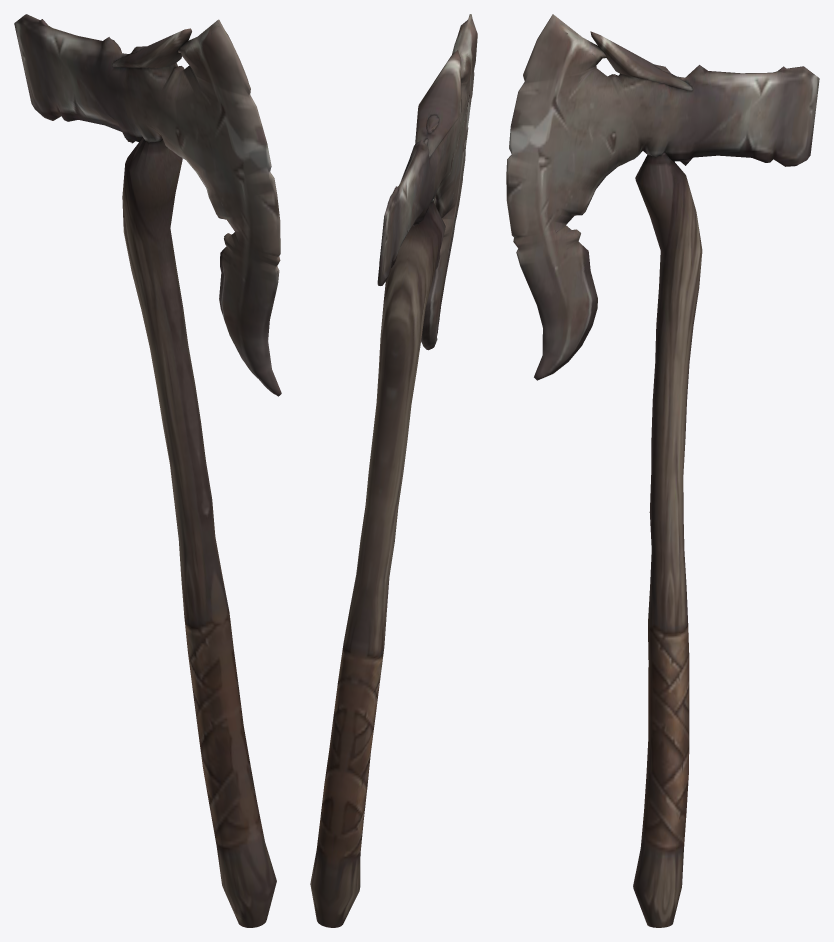
Rendered from axe.glb.
The picture shows the model from 3 angles, left to right: view 1: azimuth 30°, elevation 25°; view 2: azimuth 150°, elevation 25°; view 3: azimuth 270°, elevation 25°; orthographic projection. The views are drawn at different scales.
Visible parts, largest first — view 1: axe_grip1; view 2: axe_grip1; view 3: axe_grip1.
Part boxes in pixels (bbox=[...]): axe_grip1: bbox=[14, 14, 281, 927]; axe_grip1: bbox=[310, 14, 477, 927]; axe_grip1: bbox=[506, 14, 819, 927].
Bounding box in the file's own units: 0.1283 × 0.7035 × 0.2296.
1 material, 1 textured.
